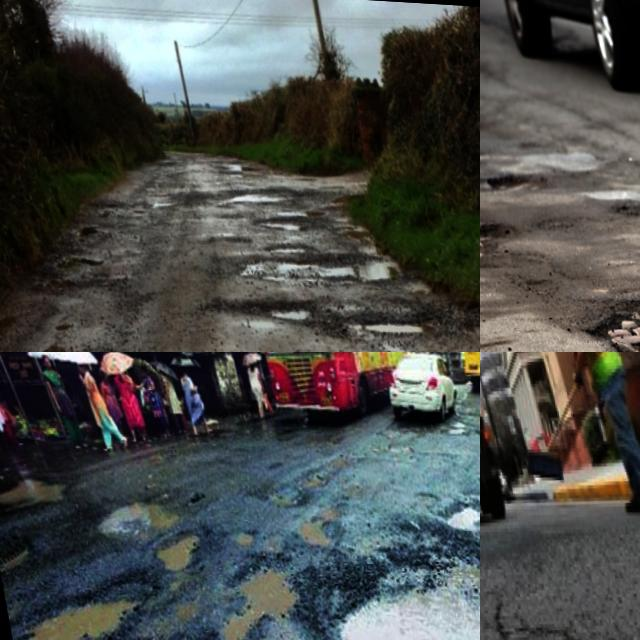Potholes: (296, 485, 480, 640), (168, 521, 318, 640), (0, 551, 157, 640), (184, 158, 322, 255), (480, 153, 553, 303), (277, 225, 404, 310), (81, 476, 185, 567), (0, 439, 81, 540), (407, 456, 480, 563), (230, 262, 321, 342), (578, 259, 640, 352), (26, 231, 105, 299), (362, 312, 480, 352), (592, 162, 640, 249), (77, 169, 141, 220)
